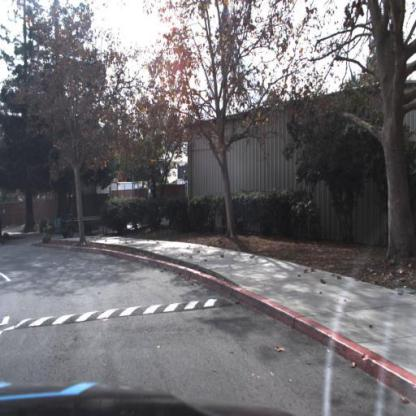truck: (52, 206, 106, 241)
